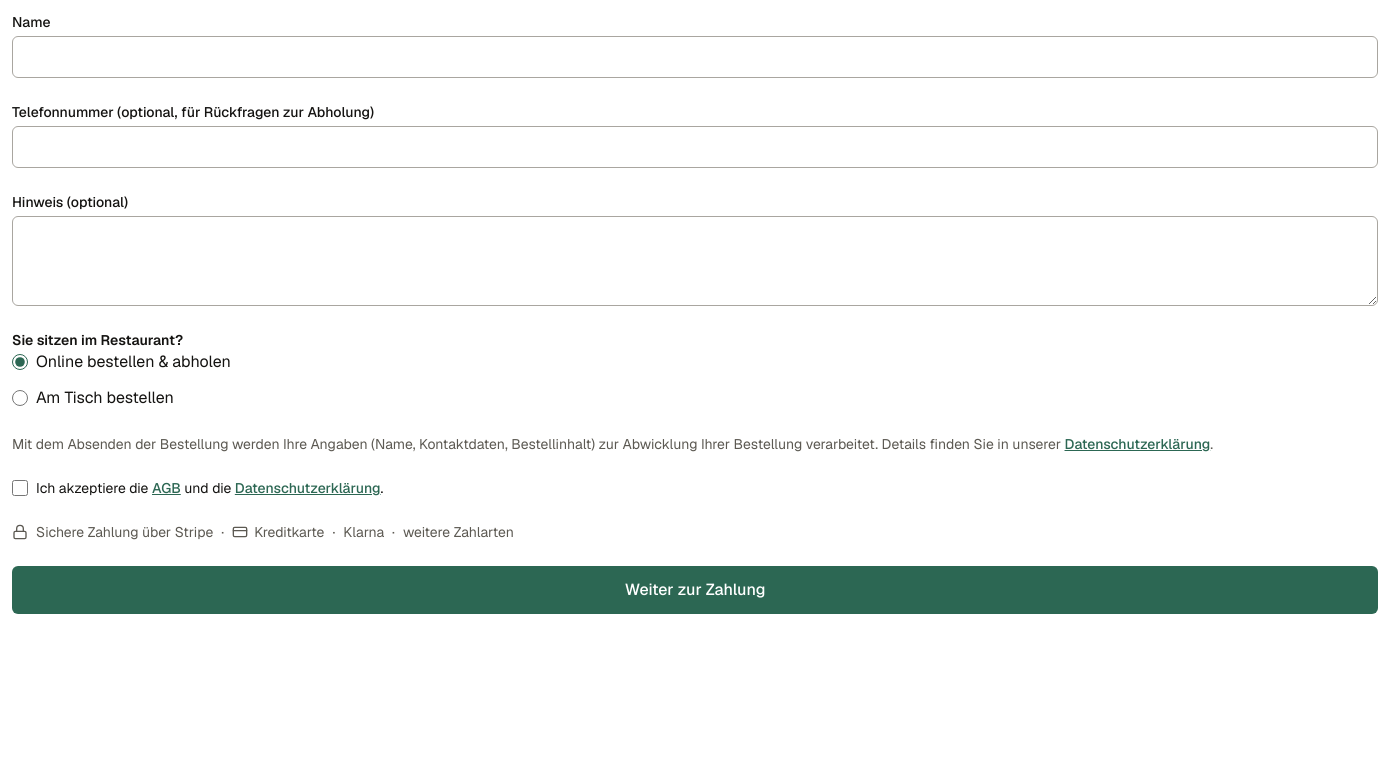
Test case: CheckoutForm keeps user input after a validation error › keeps the table choice, table number and the ticked consent after an error
Click the radio button labelled "Am Tisch bestellen" at (20, 398), box [12,390,28,406]
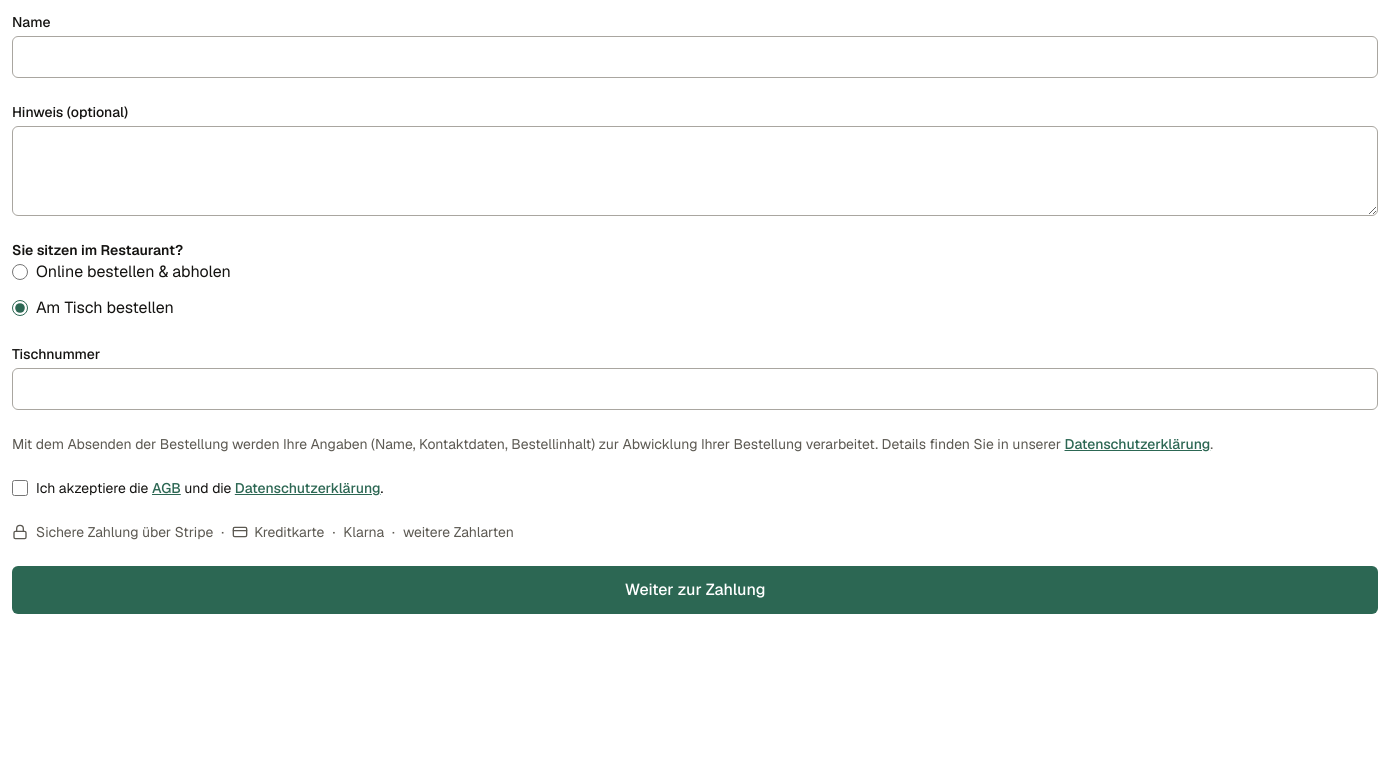
Type "Max" into the field labelled "Name" at (695, 57), box [12,36,1378,78]
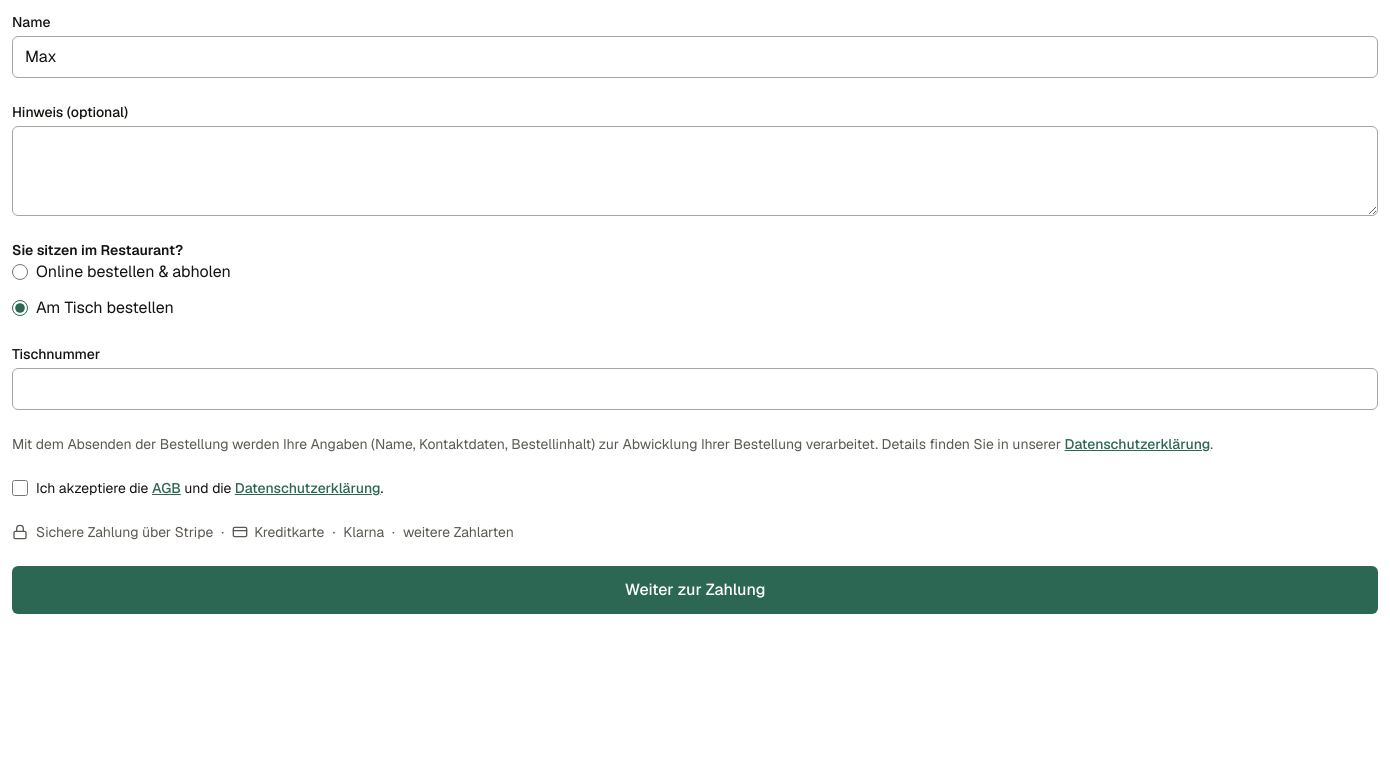
Type "12" into the field labelled "Tischnummer" at (695, 389), box [12,368,1378,410]
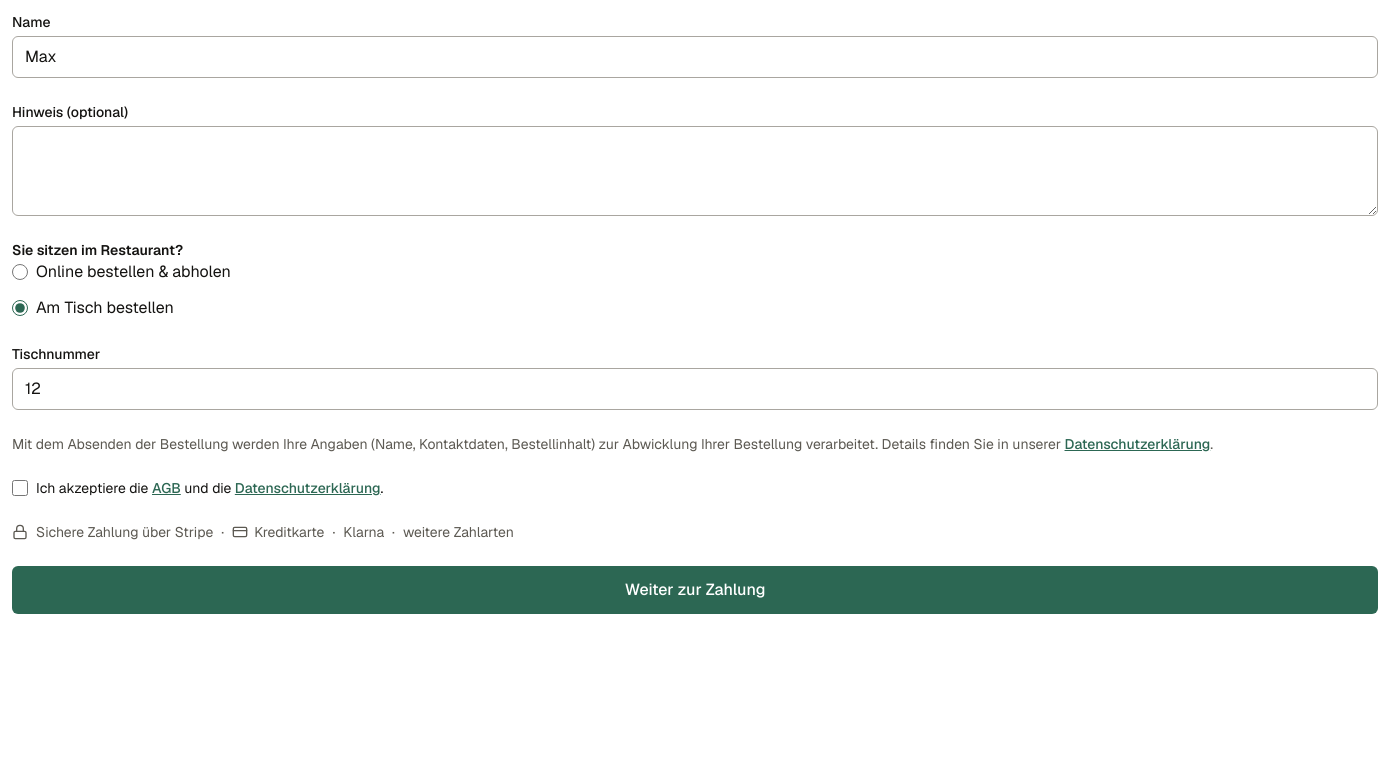
Click the button "Weiter zur Zahlung" at (695, 590), box [12,566,1378,614]
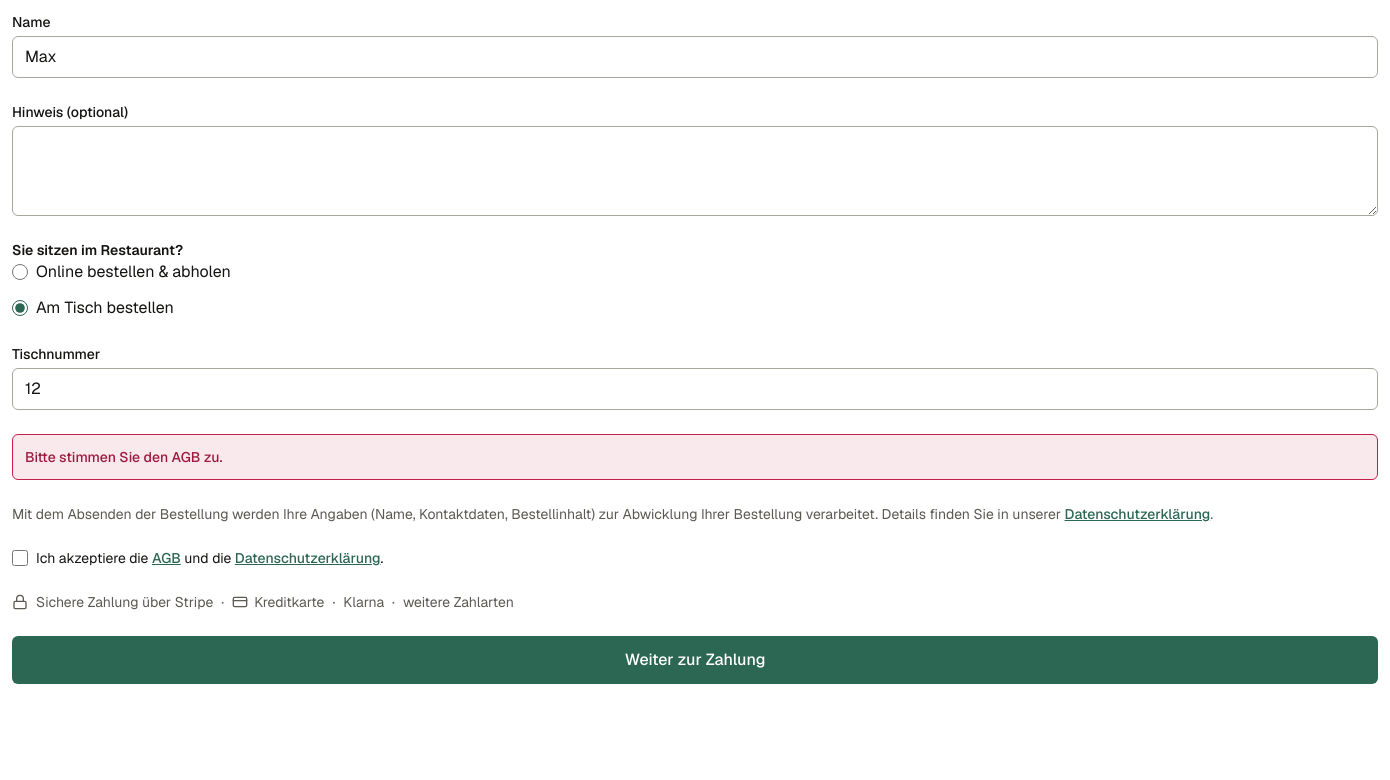
Expected: the radio button labelled "Am Tisch bestellen" is checked, [12,300,28,316]
Expected: the message "Bitte stimmen Sie den AGB zu." is shown, [12,434,1378,480]
